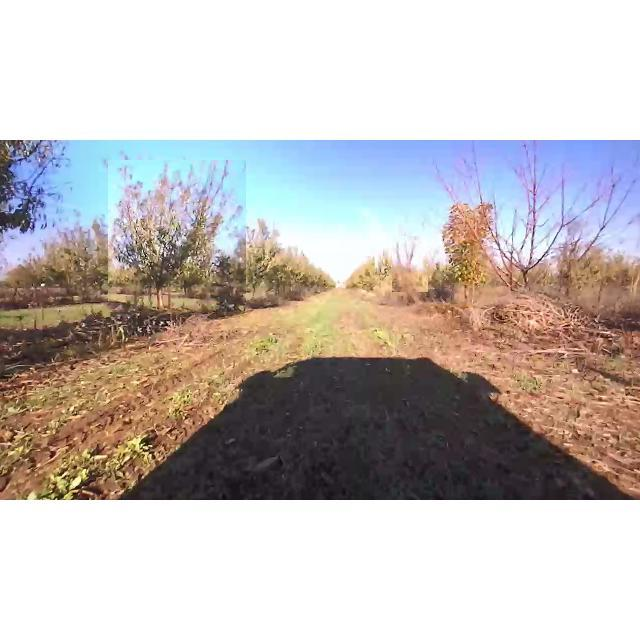direk: (434, 140, 636, 300), (108, 160, 246, 312), (441, 202, 499, 310), (240, 220, 288, 310), (392, 236, 428, 292), (279, 245, 305, 301)
